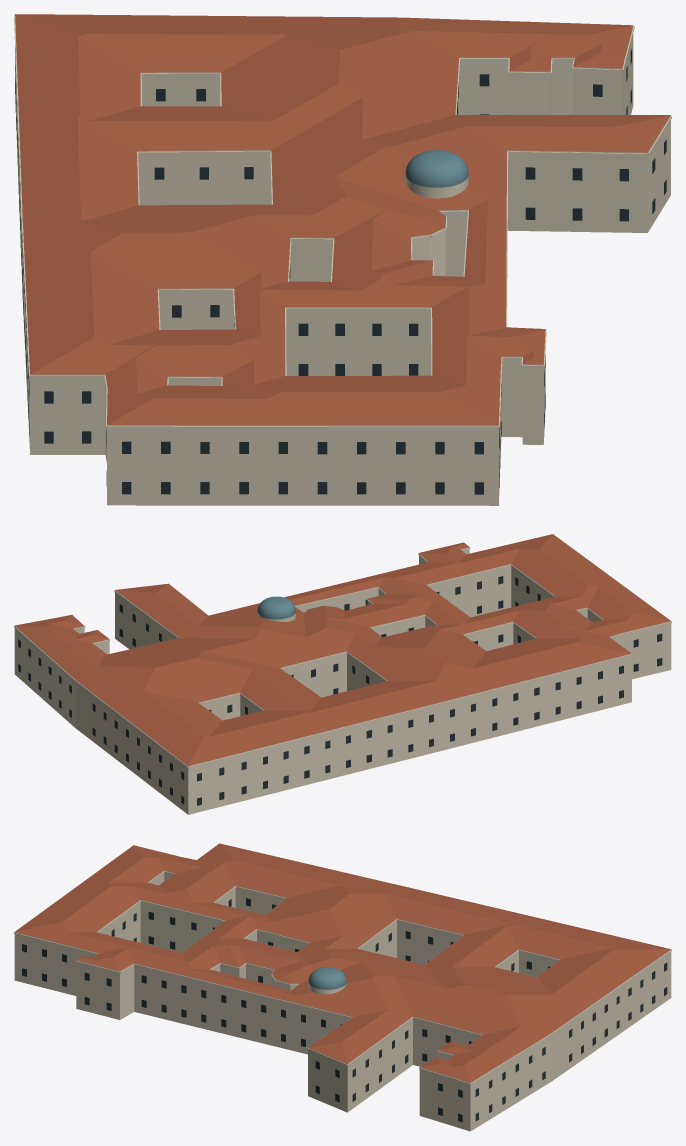
Rendered from accademia-florence.glb.
The picture shows the model from 3 angles, top to bottom: view 1: azimuth 30°, elevation 25°; view 2: azimuth 150°, elevation 25°; view 3: azimuth 270°, elevation 25°; orthographic projection. The views are drawn at different scales.
Visible parts, largest first — view 1: primary-roof, primary-envelope, window-rhythm, cornice, david-tribuna-skylight; view 2: primary-roof, primary-envelope, window-rhythm, cornice, david-tribuna-skylight; view 3: primary-roof, primary-envelope, window-rhythm, cornice, david-tribuna-skylight.
Part boxes in pixels (x1,y1,x2,y2): primary-roof: [15, 14, 670, 425]; primary-envelope: [15, 15, 670, 505]; window-rhythm: [15, 48, 666, 494]; cornice: [14, 15, 671, 428]; david-tribuna-skylight: [405, 150, 468, 187]; primary-roof: [15, 534, 670, 765]; primary-envelope: [14, 547, 671, 814]; window-rhythm: [18, 576, 662, 805]; cornice: [14, 544, 671, 767]; david-tribuna-skylight: [257, 596, 295, 619]; primary-roof: [15, 843, 670, 1082]; primary-envelope: [14, 870, 671, 1131]; window-rhythm: [22, 898, 667, 1122]; cornice: [14, 871, 671, 1084]; david-tribuna-skylight: [308, 967, 346, 989].
Size of the model in its own units: 13.81 by 1.83 by 16.
